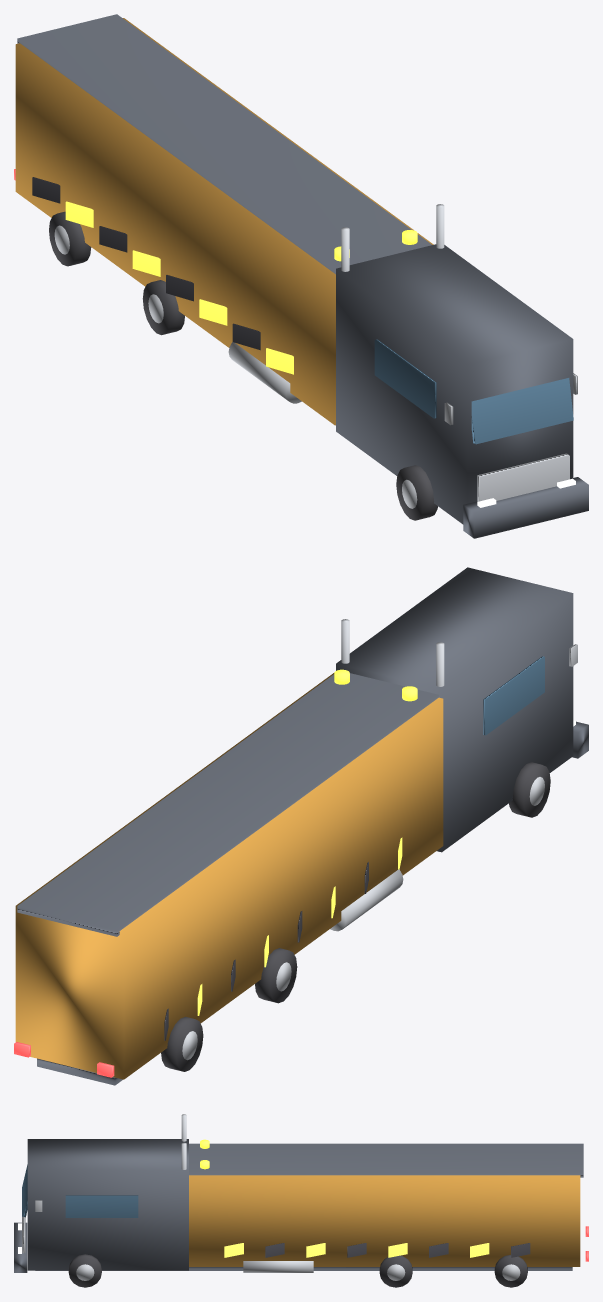
File: truck_moving.glb
3 views of the same model, one above another, from view 1: azimuth 30°, elevation 25°; view 2: azimuth 150°, elevation 25°; view 3: azimuth 270°, elevation 25° (orthographic). The views are drawn at different scales.
Visible parts, largest first — view 1: Moving_Container_Body, Driver_Cab_Block, Roof_Catwalk, Windshield, Front_Bumper, Chrome_Grille, SideWindow_L, Wheel_0_L, Wheel_1_L, Wheel_2_L, HydraulicTank_L; view 2: Moving_Container_Body, Roof_Catwalk, Driver_Cab_Block, SideWindow_L, Wheel_0_L, Wheel_2_L, Wheel_1_L, HydraulicTank_L, Chassis_Beams; view 3: Moving_Container_Body, Driver_Cab_Block, Roof_Catwalk, SideWindow_R, Chassis_Beams, HydraulicTank_R, Wheel_0_R, Wheel_2_R, Wheel_1_R, Front_Bumper, Windshield, Rim_0_R (+2 smaller).
Part boxes in pixels (<box>): Moving_Container_Body: <box>15,18,433,425</box>; Driver_Cab_Block: <box>336,244,573,524</box>; Roof_Catwalk: <box>17,14,431,274</box>; Windshield: <box>471,378,573,444</box>; Front_Bumper: <box>463,477,588,538</box>; Chrome_Grille: <box>477,453,569,501</box>; SideWindow_L: <box>374,339,436,418</box>; Wheel_0_L: <box>396,465,437,520</box>; Wheel_1_L: <box>142,280,184,335</box>; Wheel_2_L: <box>49,211,91,266</box>; HydraulicTank_L: <box>228,342,301,403</box>; Moving_Container_Body: <box>15,673,443,1079</box>; Roof_Catwalk: <box>17,673,438,936</box>; Driver_Cab_Block: <box>336,567,573,852</box>; SideWindow_L: <box>483,656,544,735</box>; Wheel_0_L: <box>509,762,550,817</box>; Wheel_2_L: <box>161,1016,203,1071</box>; Wheel_1_L: <box>255,948,297,1003</box>; HydraulicTank_L: <box>330,869,403,931</box>; Chassis_Beams: <box>37,1058,122,1085</box>; Moving_Container_Body: <box>189,1175,580,1266</box>; Driver_Cab_Block: <box>27,1139,188,1270</box>; Roof_Catwalk: <box>189,1143,583,1177</box>; SideWindow_R: <box>65,1195,138,1217</box>; Chassis_Beams: <box>35,1267,572,1270</box>; HydraulicTank_R: <box>243,1261,313,1272</box>; Wheel_0_R: <box>68,1254,101,1287</box>; Wheel_2_R: <box>494,1255,527,1287</box>; Wheel_1_R: <box>379,1255,412,1287</box>; Front_Bumper: <box>14,1222,27,1272</box>; Windshield: <box>22,1164,27,1217</box>; Rim_0_R: <box>76,1264,94,1280</box>.
Size of the model in its own units: 2.95 by 4.8 by 17.98.
